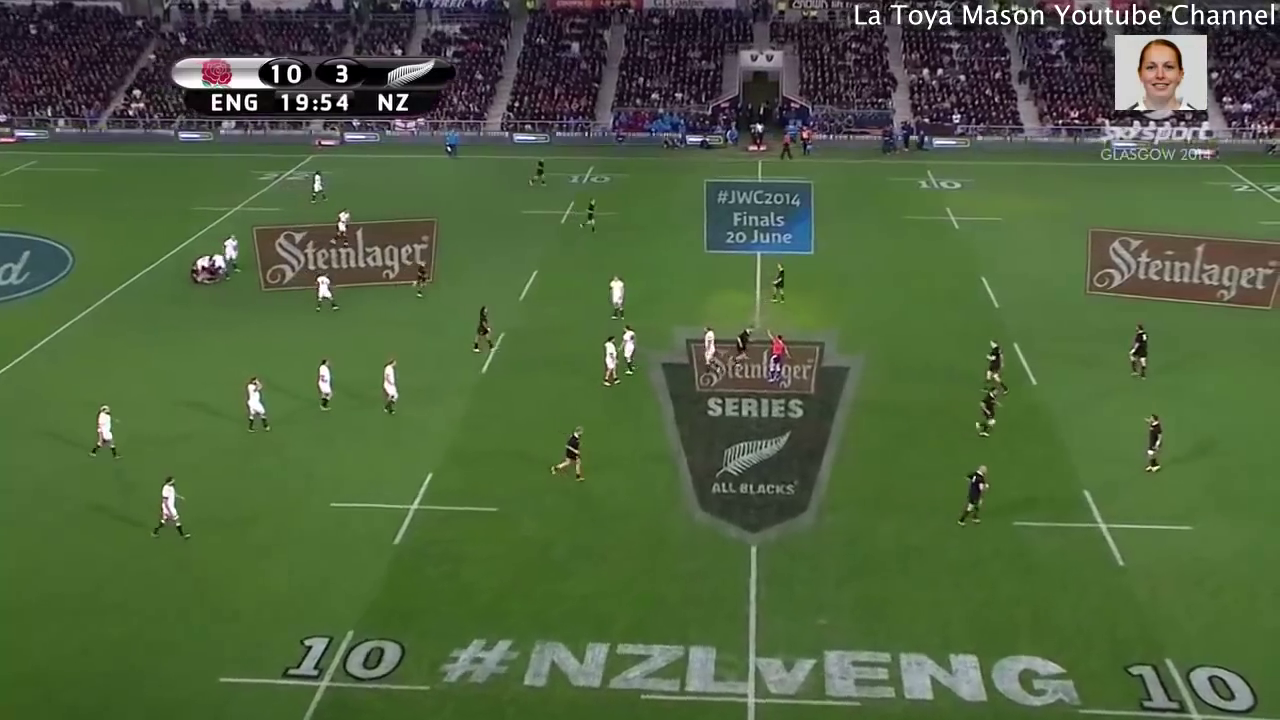10_metre: (213, 625, 434, 720), (1006, 484, 1201, 570), (1072, 648, 1280, 720), (322, 467, 504, 546), (518, 200, 624, 230), (900, 204, 1007, 233), (544, 162, 633, 187), (884, 168, 979, 190)
player: (152, 467, 195, 548), (541, 424, 589, 486), (83, 399, 129, 462), (953, 461, 991, 532), (1120, 317, 1155, 387), (1138, 408, 1169, 480), (964, 387, 1001, 444), (980, 337, 1012, 396), (241, 376, 273, 432), (463, 305, 499, 352), (725, 319, 759, 367), (377, 355, 402, 420), (593, 332, 622, 388), (760, 330, 789, 384), (763, 257, 793, 309), (614, 320, 642, 372), (313, 356, 335, 415), (600, 273, 625, 324), (311, 270, 340, 312), (698, 324, 720, 379), (325, 206, 353, 248), (219, 233, 245, 275), (574, 196, 601, 234), (527, 152, 549, 190), (412, 259, 430, 300), (309, 168, 328, 206), (210, 251, 230, 280), (189, 251, 210, 278)
